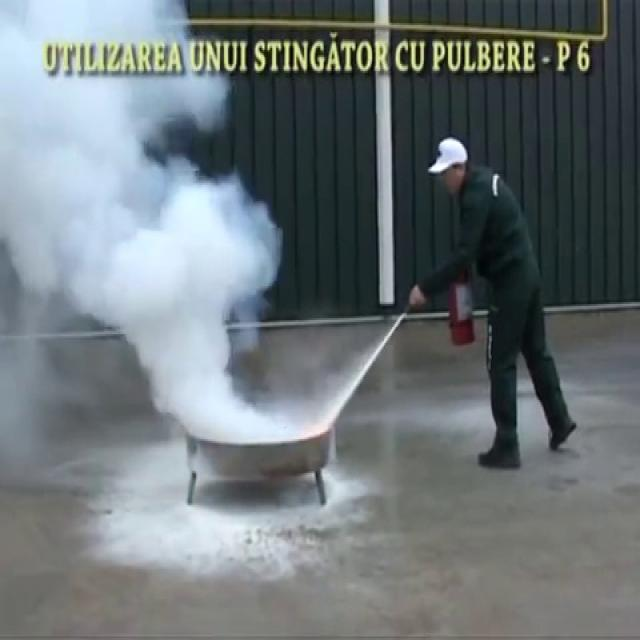Smoke: (0, 0, 292, 444)
